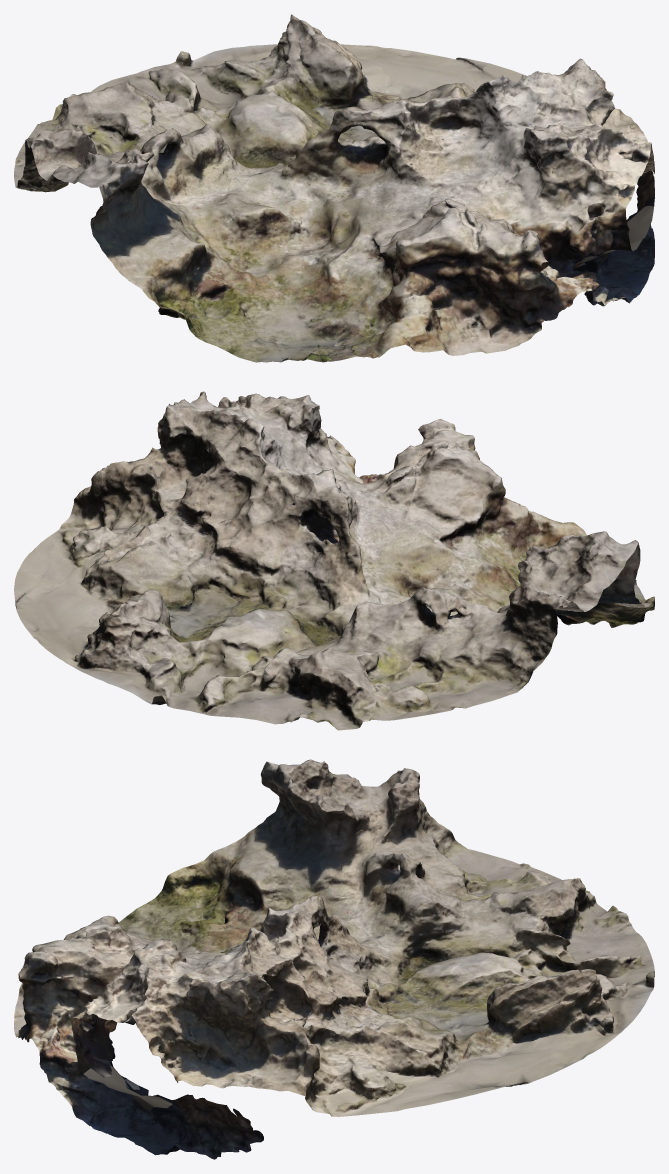
The model's file is model-lite.glb.
3 renders of one model, top to bottom at view 1: azimuth 30°, elevation 25°; view 2: azimuth 150°, elevation 25°; view 3: azimuth 270°, elevation 25°, orthographic.
Visible parts, largest first — view 1: Mesh_0_Part_0; view 2: Mesh_0_Part_0; view 3: Mesh_0_Part_0.
Boxes of the visible parts, bbox=[...] form: Mesh_0_Part_0: bbox=[14, 14, 654, 362]; Mesh_0_Part_0: bbox=[14, 391, 654, 730]; Mesh_0_Part_0: bbox=[14, 759, 654, 1159].
Size of the model in its own units: 0.539 by 0.1676 by 0.5521.
Materials: 1 (1 with a texture image).
